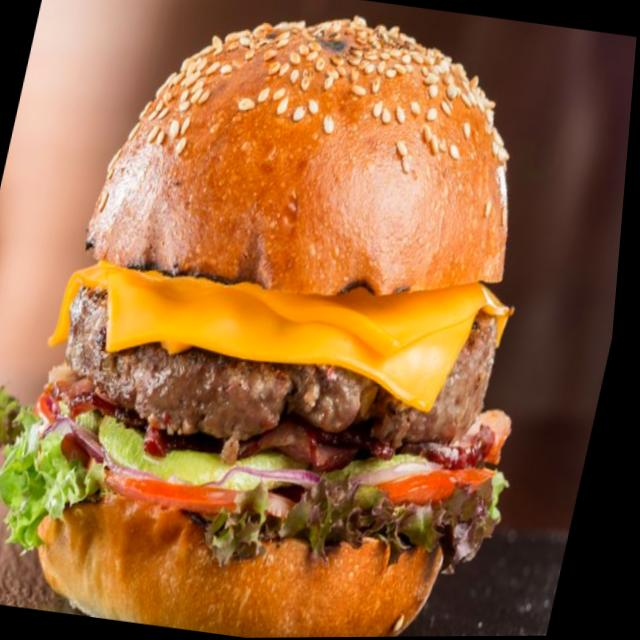burger: (0, 0, 588, 640)
